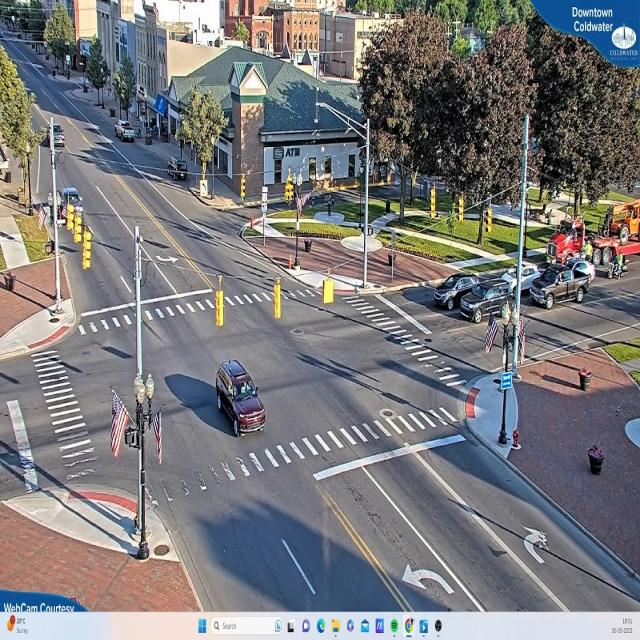car: (214, 360, 266, 434), (525, 258, 595, 310), (460, 280, 512, 328), (433, 268, 462, 308), (116, 123, 137, 143)
